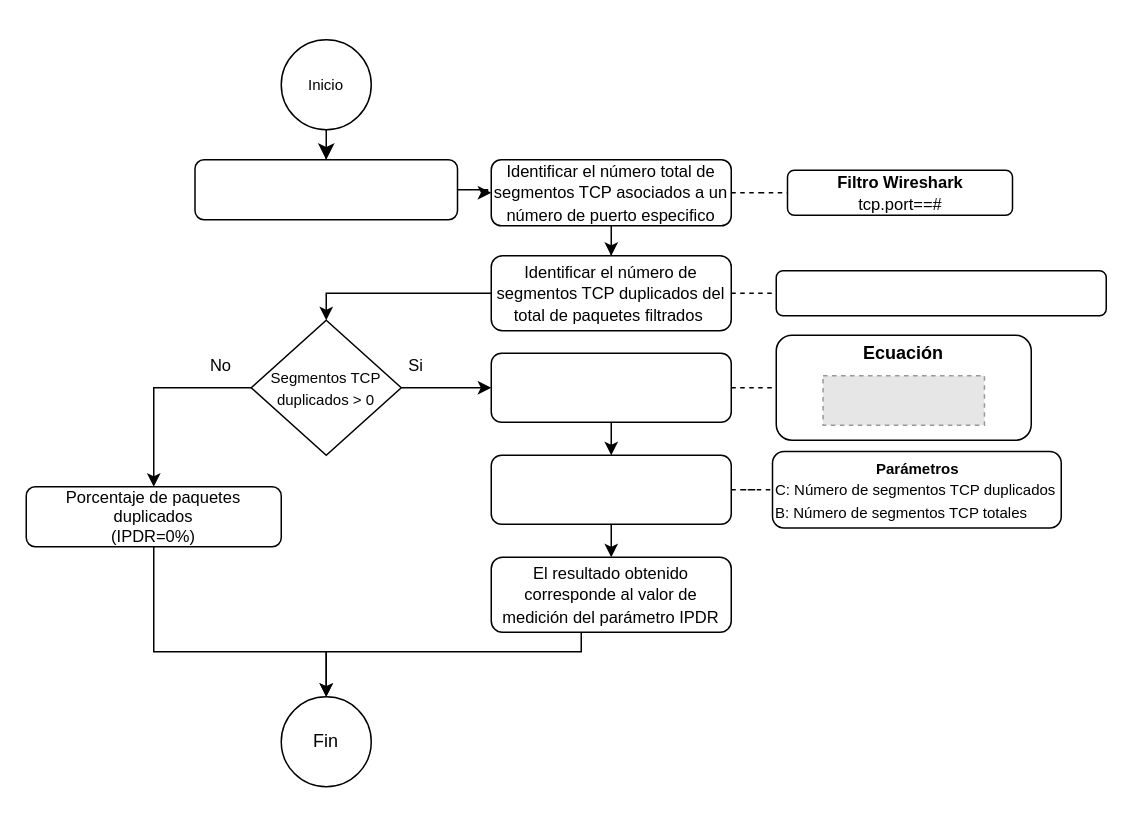
This 1133x813 diagram has some shape labels left out. Grey dashed boxes stand in for pictures. Each missing label, with the box of its shape:
Asociar los valores obtenidos acorde a los parámetros de la ecuación: (490, 454, 731, 524)
Captura del tráfico de la red mediante el software de Wireshark: (194, 158, 458, 220)
Filtro Wireshark tcp.port==# and tcp.analysis.duplicate_ack: (775, 269, 1106, 316)
Utilizar la ecuación para cálcular el porcentaje de segmentos TCP duplicados: (490, 352, 731, 422)
